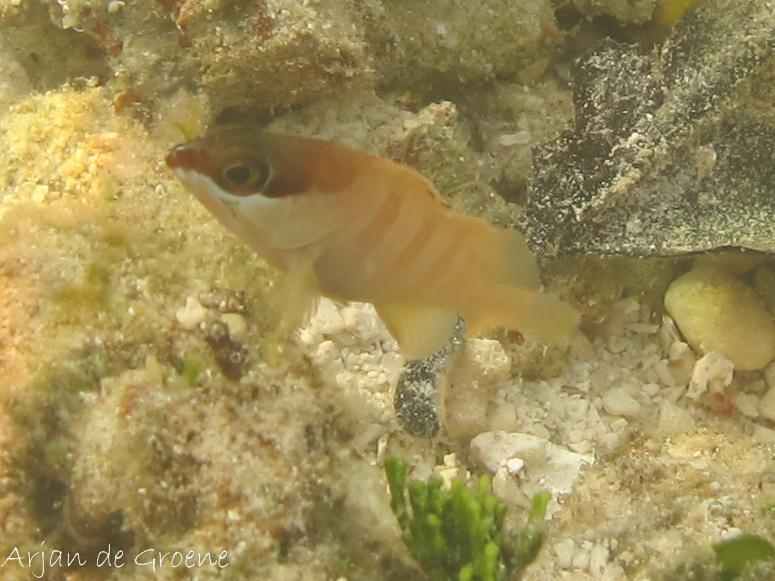Fish: (141, 101, 599, 399)
